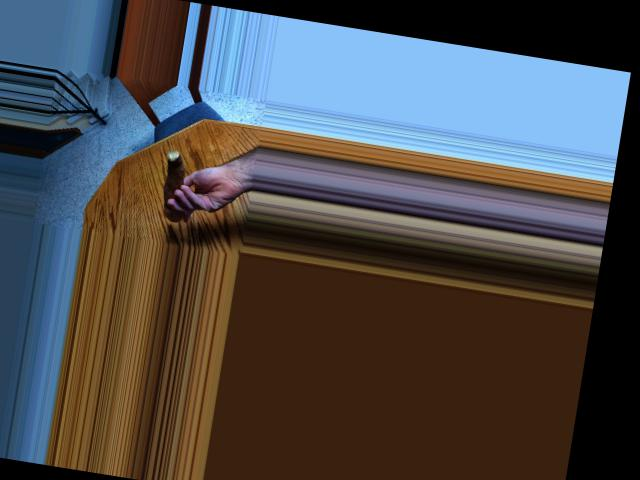sweet_potato: (158, 143, 191, 223)
